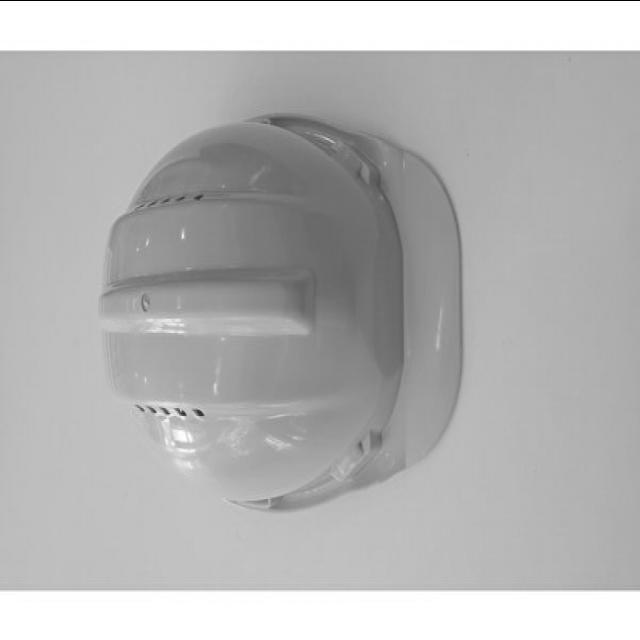safety_helmet: (102, 112, 466, 511)
